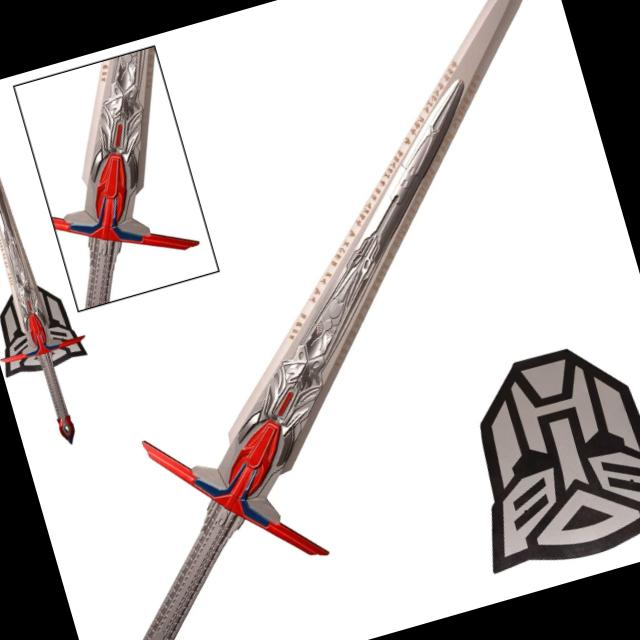Weapon: (0, 0, 640, 640), (0, 77, 115, 464)
